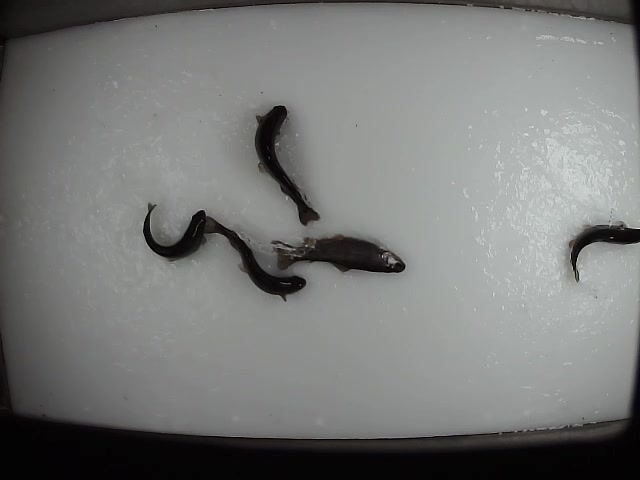Fish: (204, 213, 307, 302), (255, 105, 321, 226), (270, 233, 407, 274), (142, 201, 207, 262)
